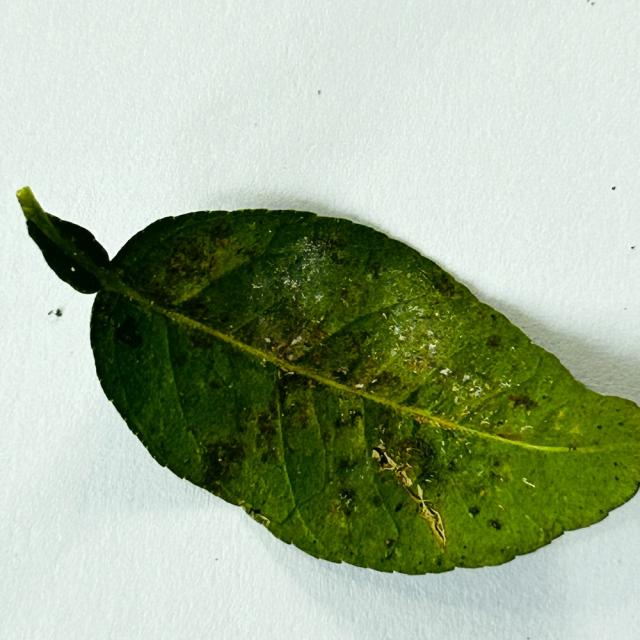Bacterial_Blight: (372, 437, 435, 507), (398, 475, 446, 551), (373, 446, 425, 497), (401, 407, 482, 437), (271, 330, 319, 364), (371, 443, 398, 473), (242, 504, 269, 527), (412, 414, 432, 424), (306, 378, 316, 388)
